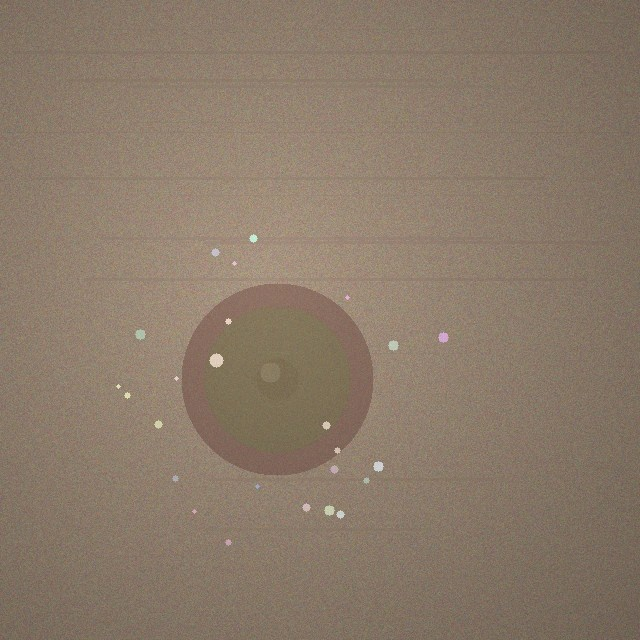overburn: (181, 283, 373, 475)
